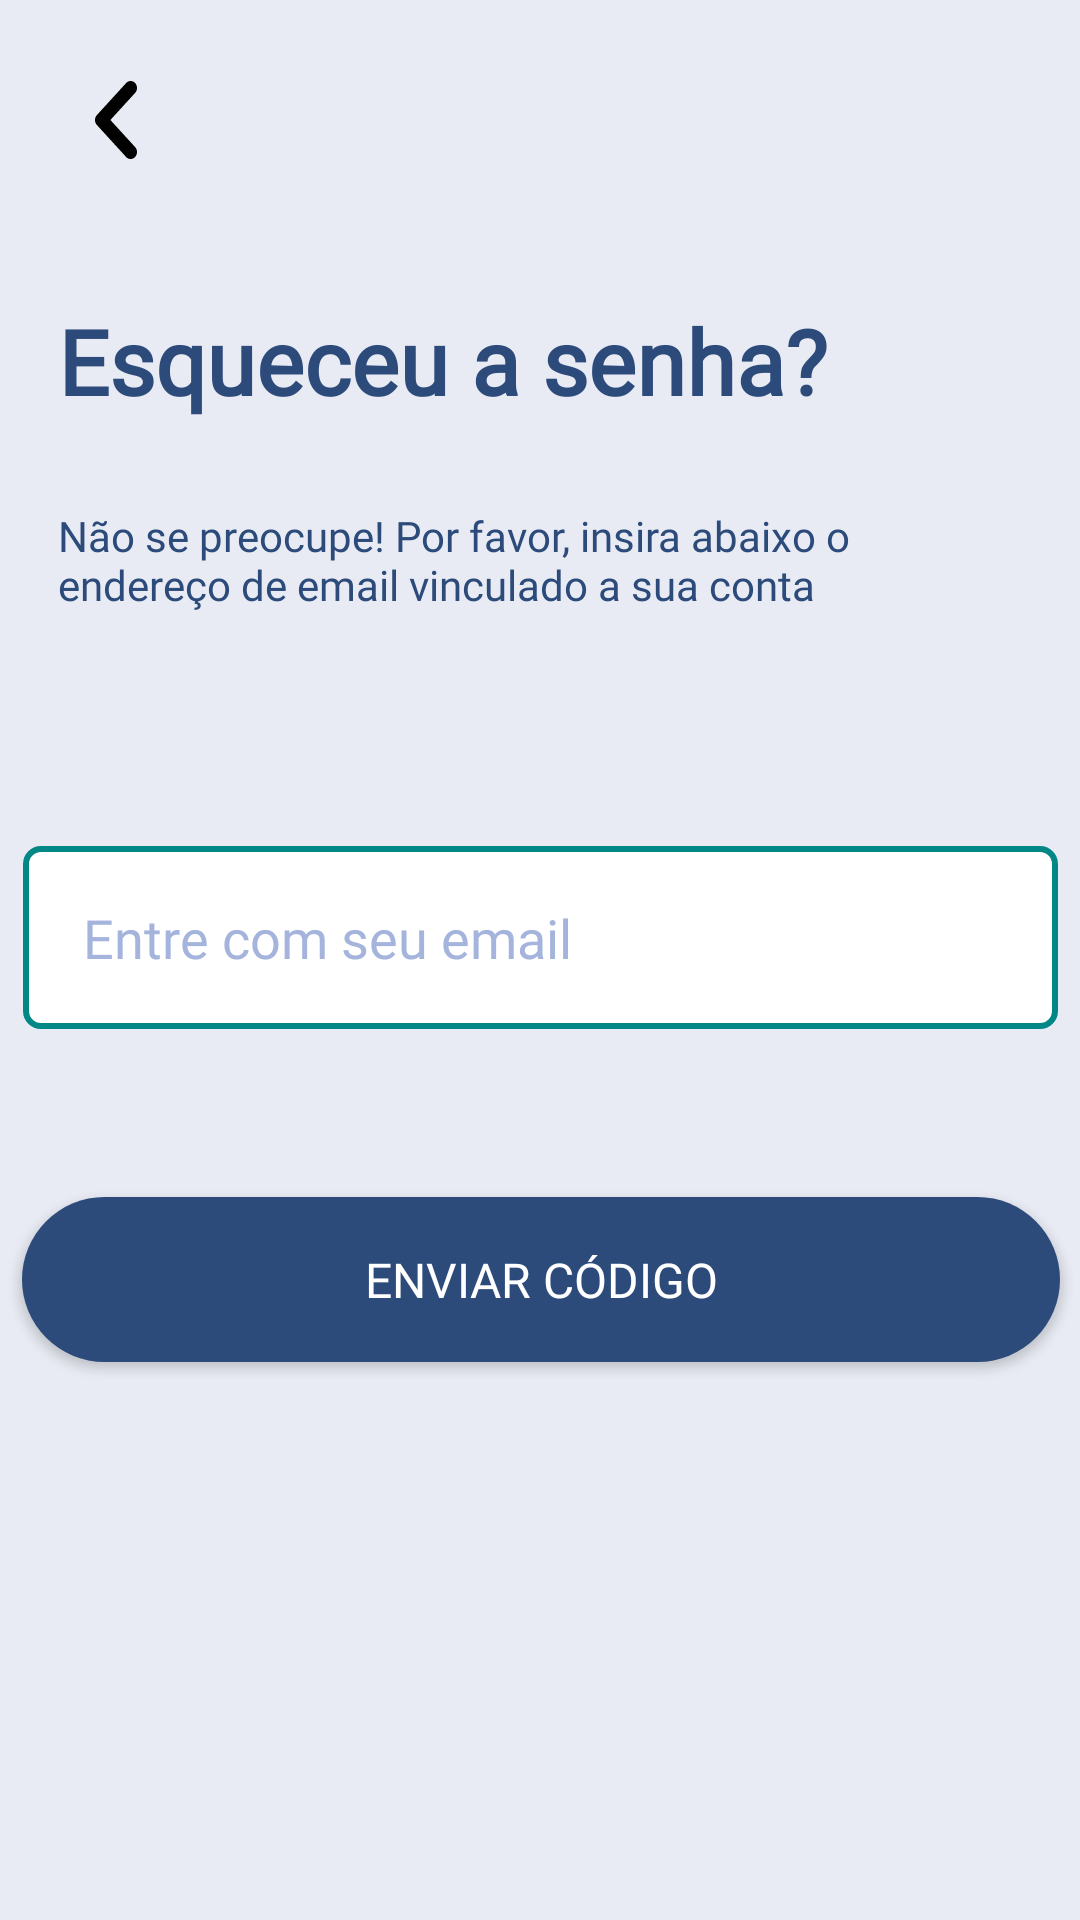

Icons on this 1080px×1920px Android screen, each with the point to tap as (x=x, y=y):
seta: (x=116, y=120)
